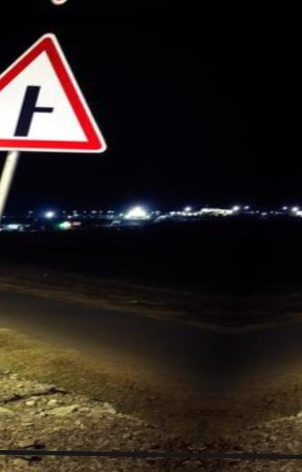Turn straight or right: (4, 34, 103, 157)
